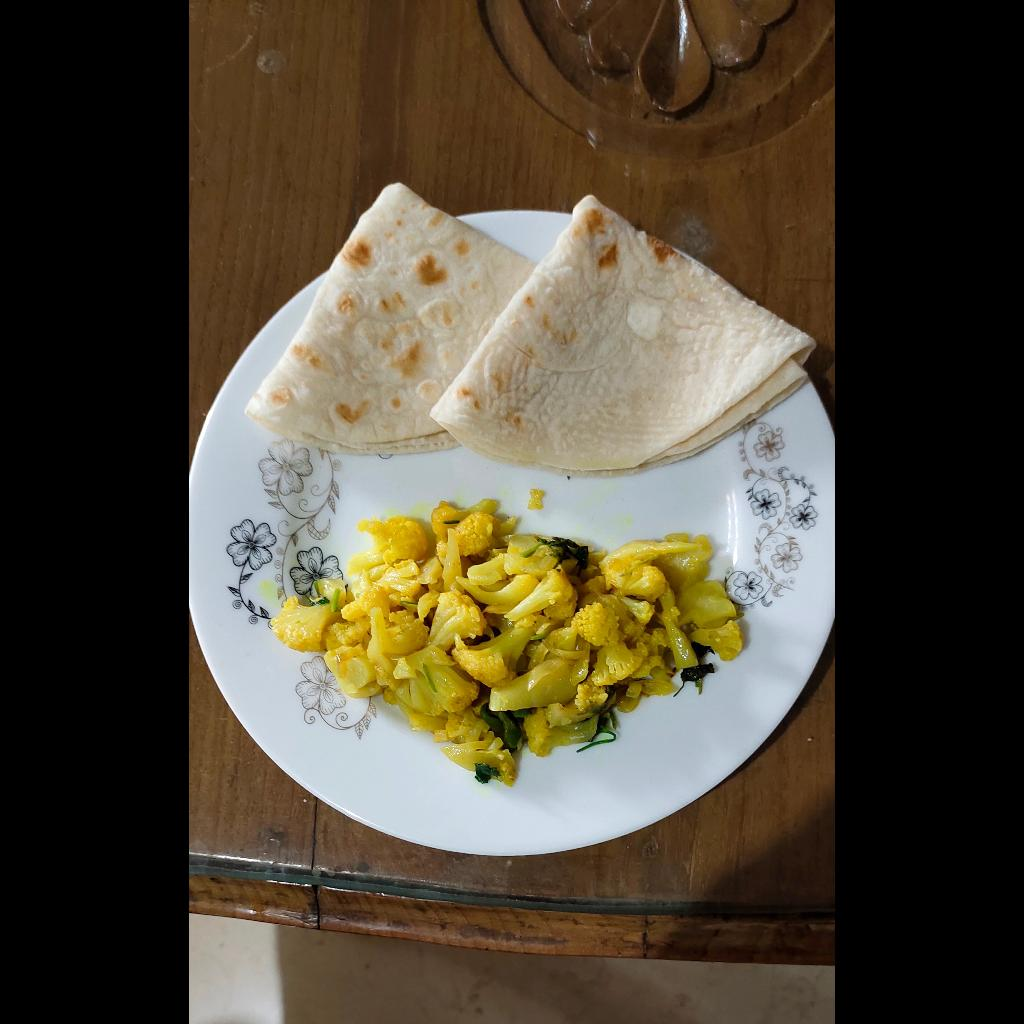cauliflower: (263, 497, 742, 797)
ruti: (238, 179, 823, 477)
